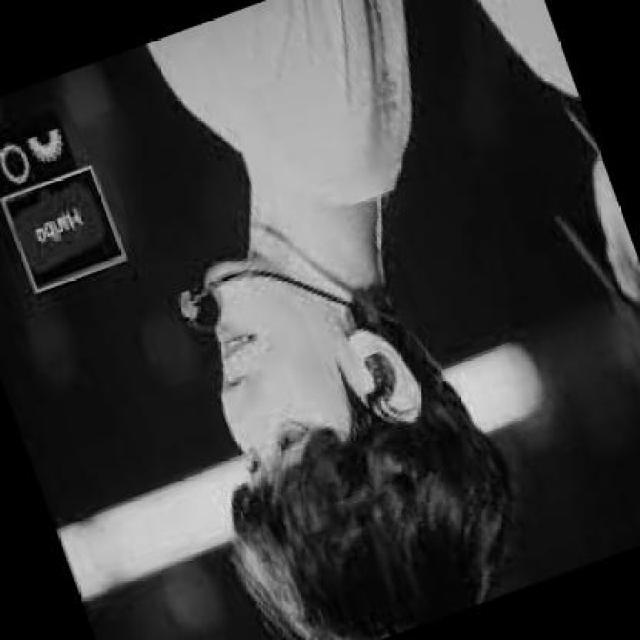earphone: (357, 337, 393, 406)
